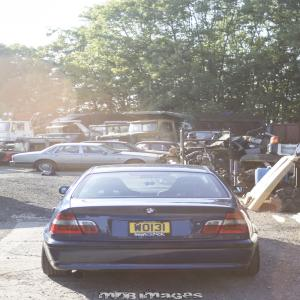Vehicle-registration-plate: (128, 223, 172, 237)
